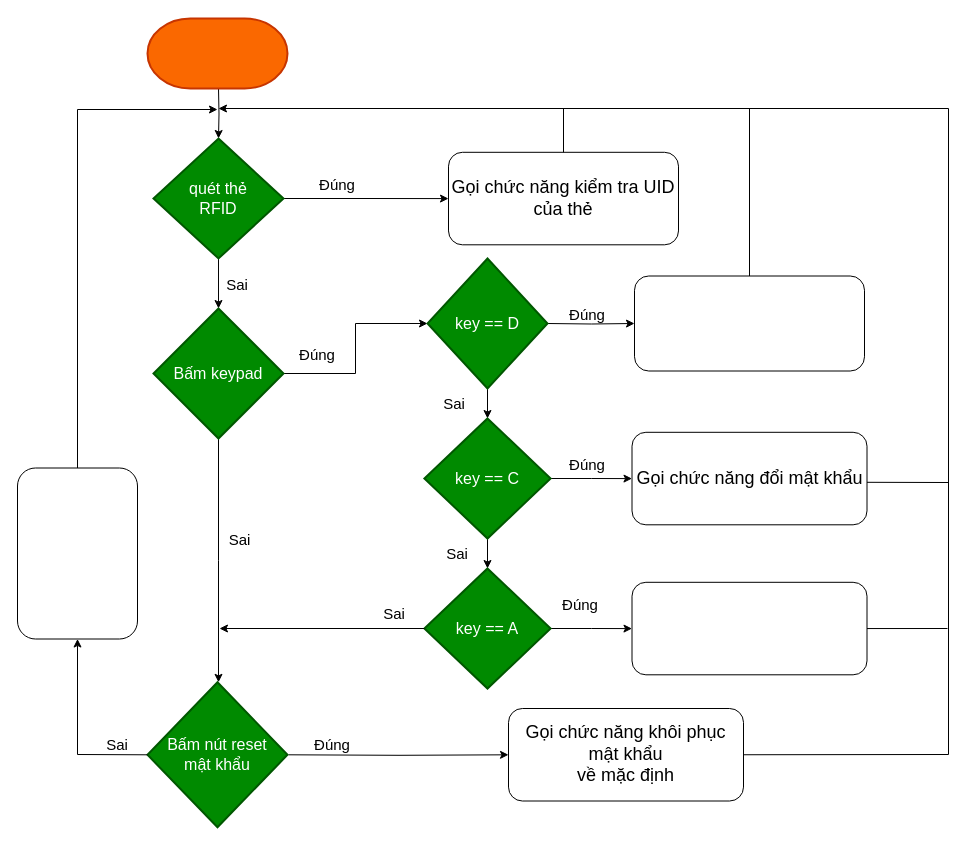
This 967x845 diagram has some shape labels left out. Here are the shapes that lost their labels. From the top down, the centre of each, then its label:
At (x=217, y=53): "Bắt đầu".
At (x=749, y=323): "Gọi chức năng mở khóa bằng mật khẩu".
At (x=77, y=553): "Không có chức năng nào được gọi".
At (x=749, y=628): "Gọi chức năng thêm thẻ RFID phụ".
